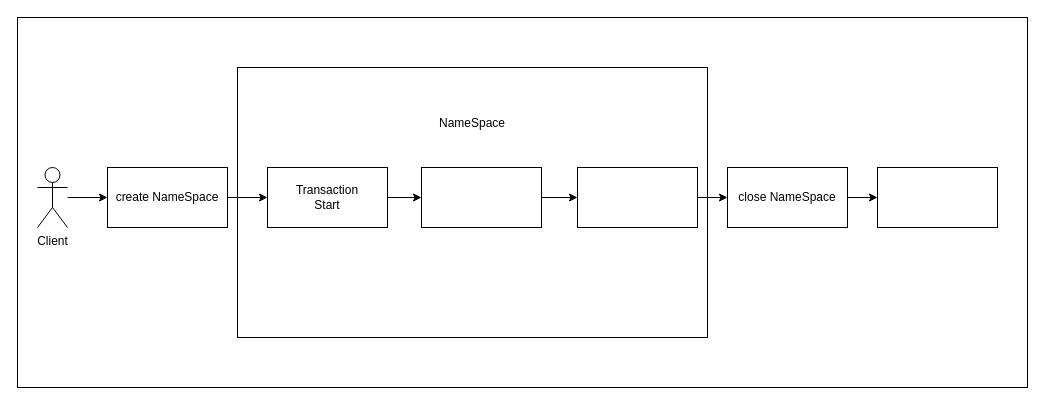
This 1045x405 diagram has some shape labels left out. Each missing label, with the centre of its shape:
"Command" belongs at [481,197].
"Response" belongs at [937,197].
"Transaction Commit" belongs at [637,197].
